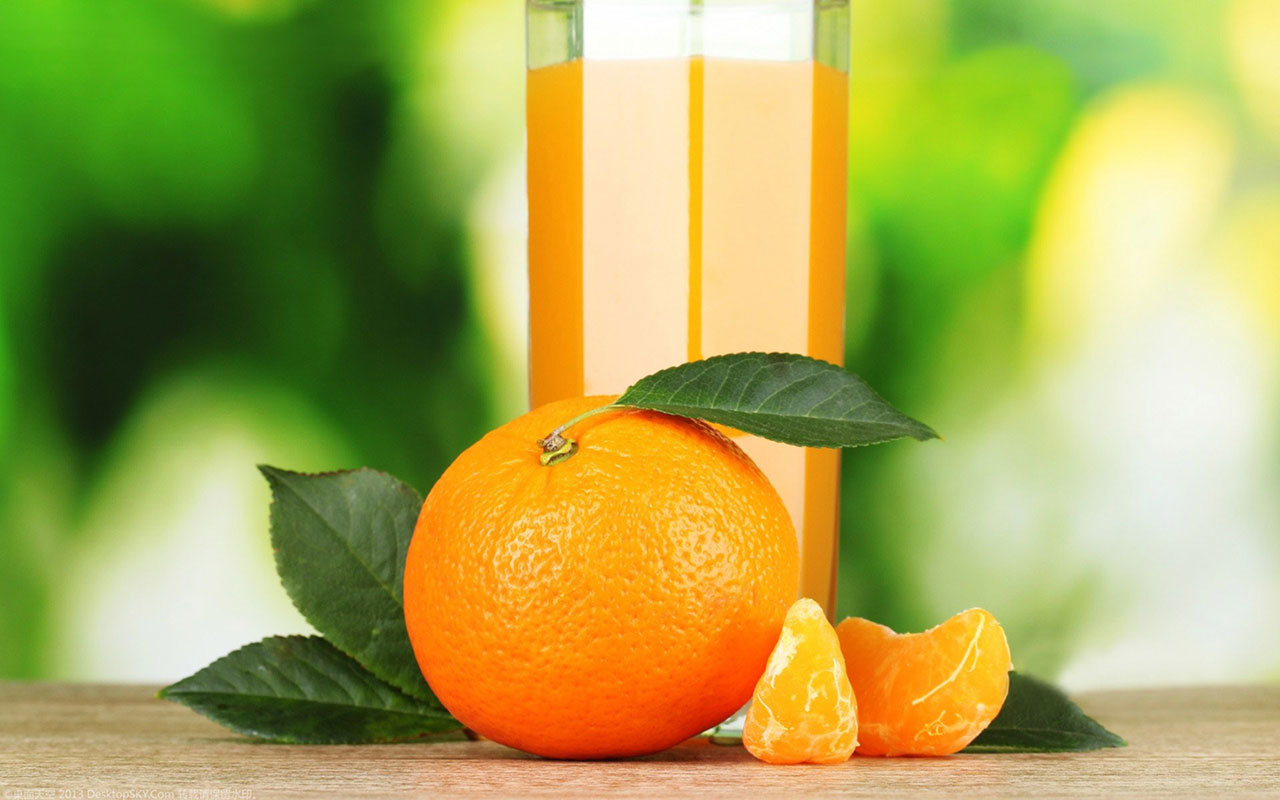orange: (390, 391, 815, 800)
